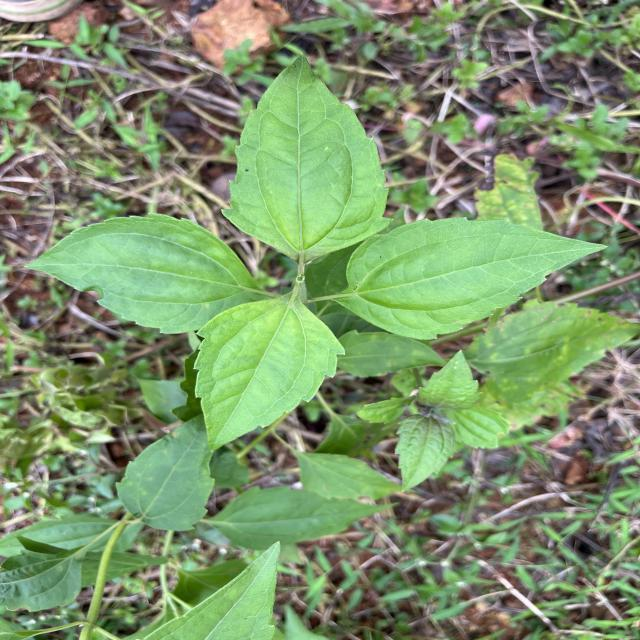Chromolaena odorata: (217, 51, 399, 268), (328, 212, 610, 344), (18, 208, 270, 339), (185, 291, 348, 464)
